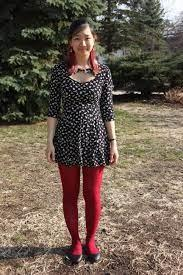FallenBody: (34, 16, 122, 270)
